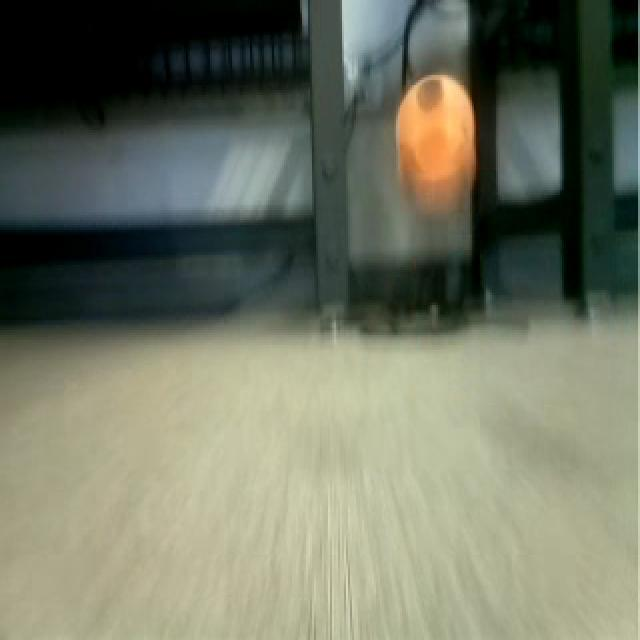oball: (389, 71, 480, 210)
